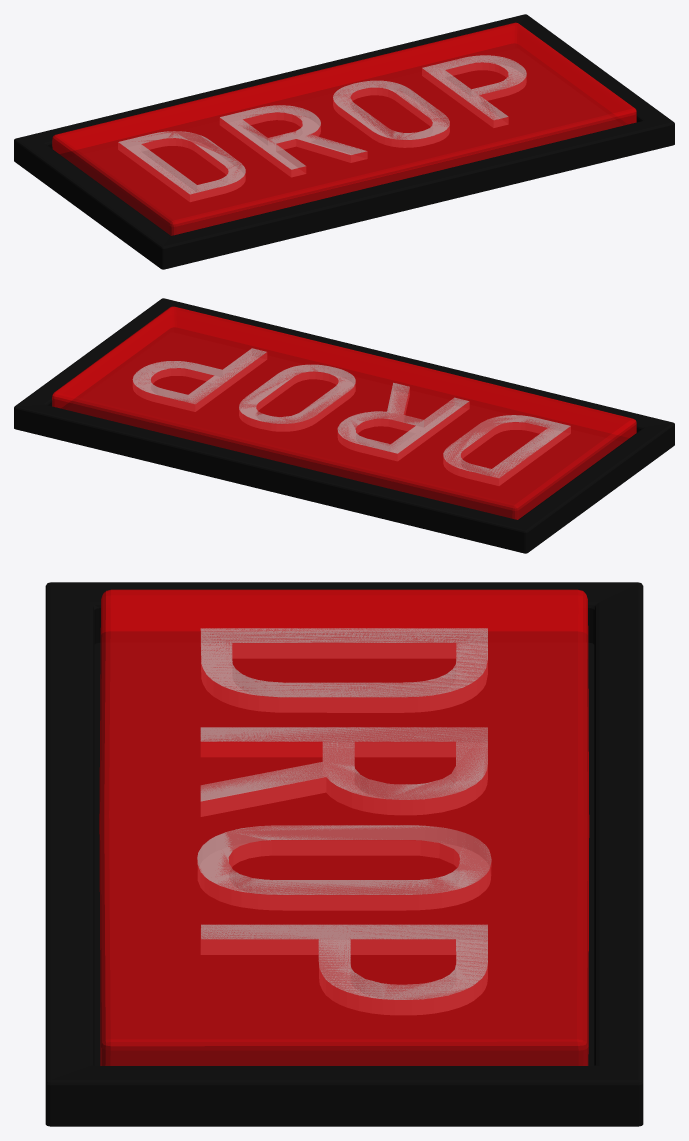
Rendered from drop-button.glb.
3 renders of one model, top to bottom at view 1: azimuth 30°, elevation 25°; view 2: azimuth 150°, elevation 25°; view 3: azimuth 270°, elevation 25°, orthographic. The views are drawn at different scales.
Visible parts, largest first — view 1: button, button-empty; view 2: button, button-empty; view 3: button, button-empty.
Boxes of the visible parts, left/top/right/bottom form: button: left=14, top=14, right=674, bottom=269; button-empty: left=52, top=23, right=636, bottom=235; button: left=14, top=298, right=674, bottom=553; button-empty: left=52, top=307, right=636, bottom=519; button: left=45, top=582, right=643, bottom=1126; button-empty: left=99, top=590, right=588, bottom=1065.
Size of the model in its own units: 0.121 by 0.00696 by 0.061.
